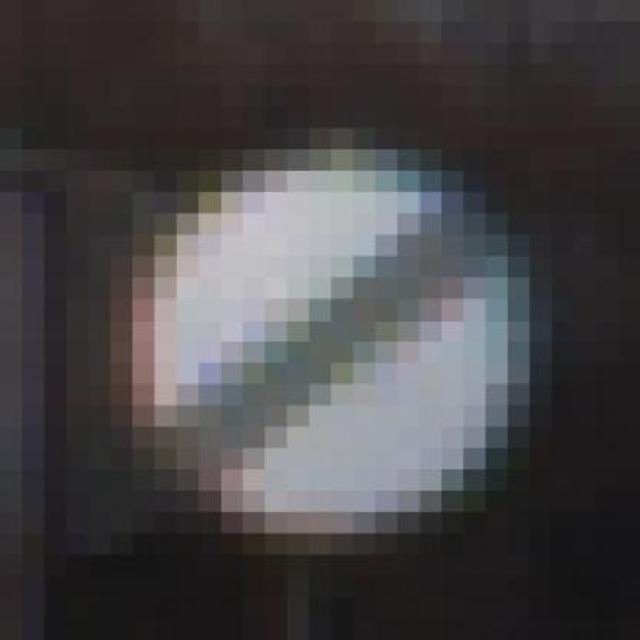End of all speed and passing limits: (132, 86, 552, 576)
